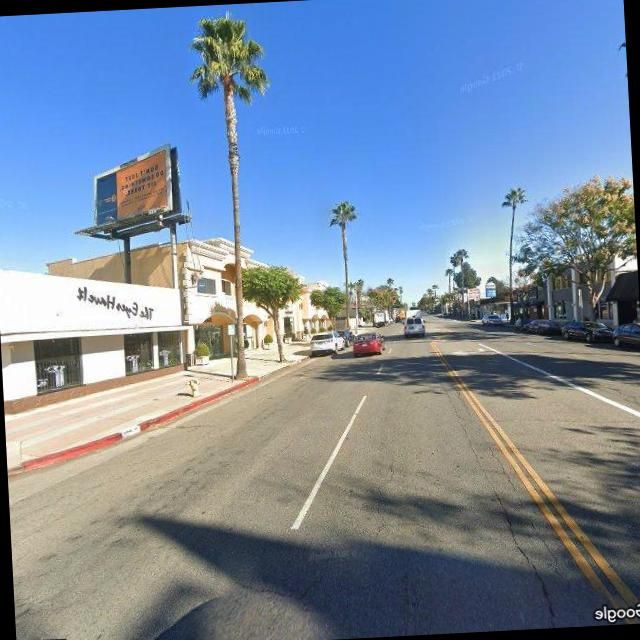crack: (464, 422, 557, 620), (482, 432, 564, 572), (370, 454, 404, 536)
